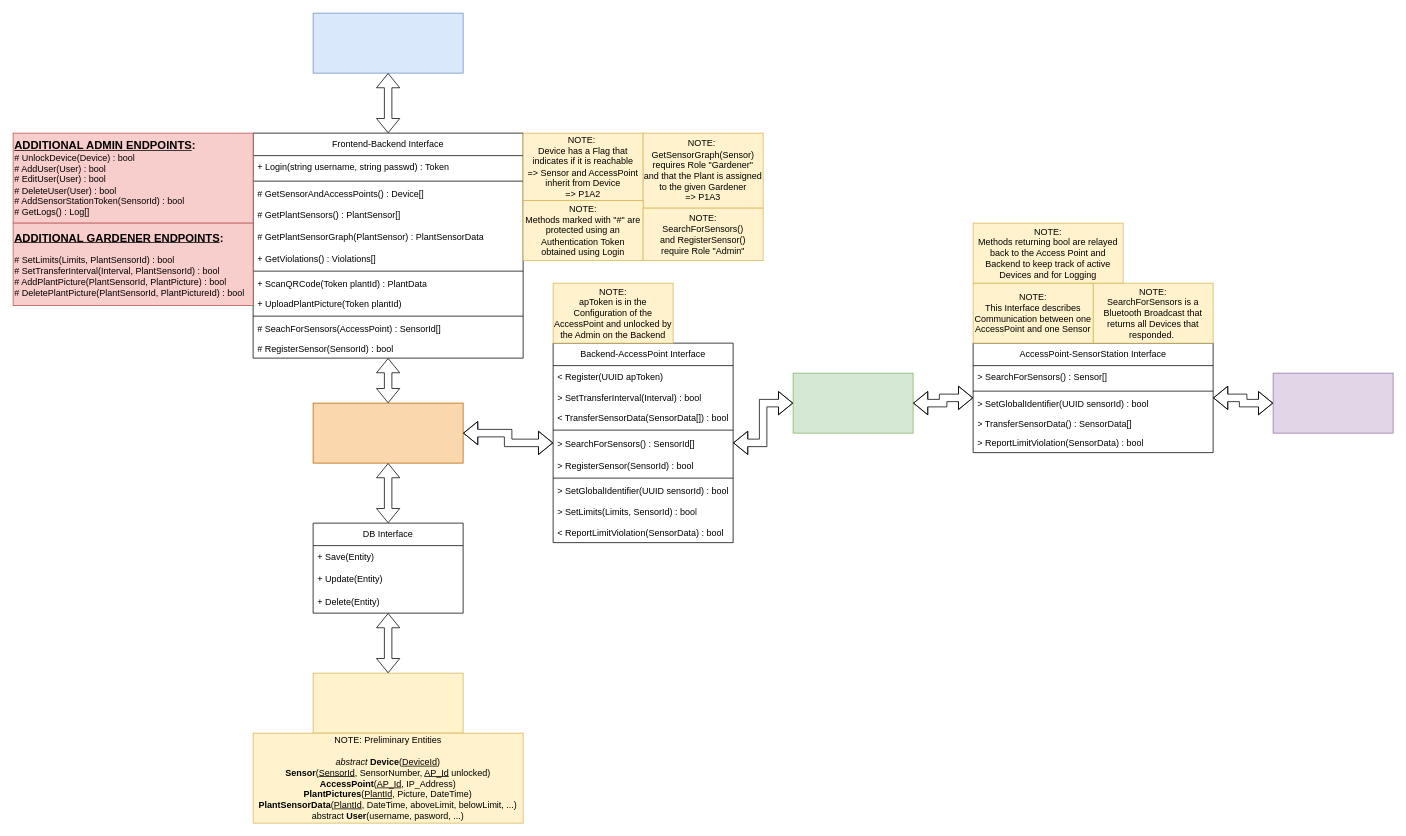
Some shapes in this 1406 by 836 pixel diagram are drawn without their labels. Each missing label, with the centre of its shape:
"Access Point (Raspberry Pi)" goes at point (852, 402).
"MySQL Database" goes at point (387, 702).
"SensorStation (Arduino)" goes at point (1332, 402).
"Spring REST Server (Backend)" goes at point (387, 432).
"Svelte Kit UI Server (Frontend)" goes at point (387, 42).
